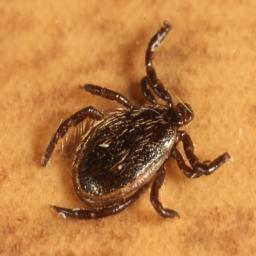Ixodes scapularis: (40, 22, 227, 221)
